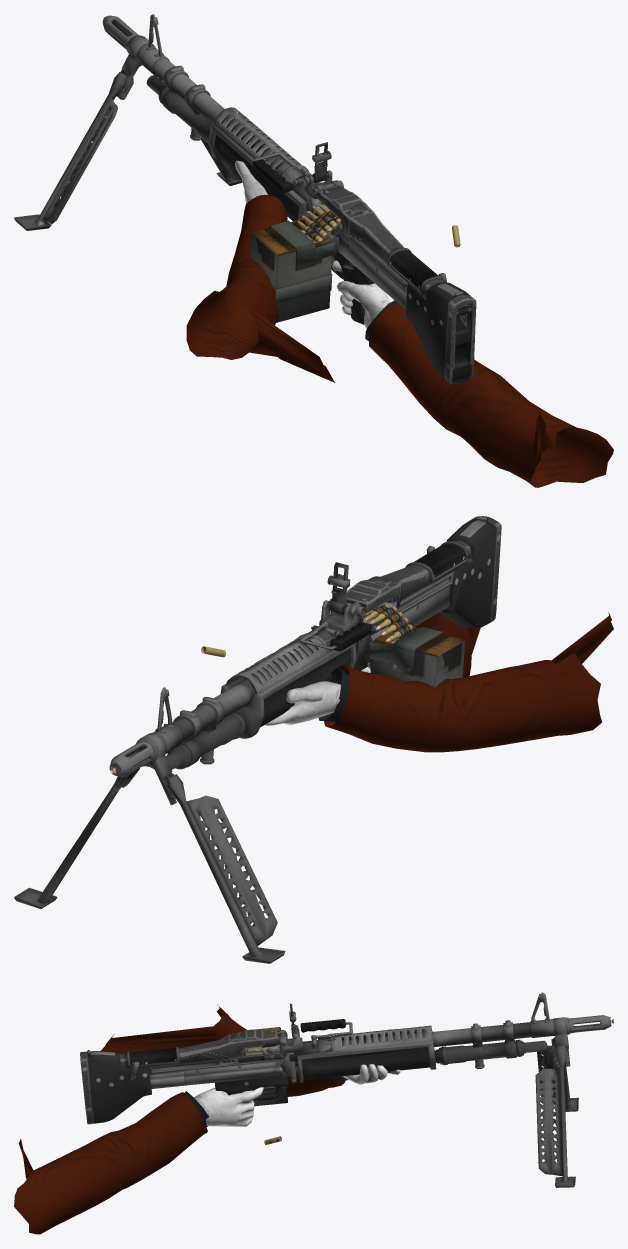
File: frame_15.obj
3 views of the same model, one above another, from view 1: azimuth 30°, elevation 25°; view 2: azimuth 150°, elevation 25°; view 3: azimuth 270°, elevation 25° (orthographic). The views are drawn at different scales.
Visible parts, largest first — view 1: Mesh.005, PlayerModelMerged.001_PlayerModelMerged, Mesh.001; view 2: Mesh.005, PlayerModelMerged.001_PlayerModelMerged, Mesh.001; view 3: Mesh.005, PlayerModelMerged.001_PlayerModelMerged.
Boxes of the visible parts, x1,y1,x2,y2 form: Mesh.005: (14, 14, 476, 383); PlayerModelMerged.001_PlayerModelMerged: (186, 160, 613, 487); Mesh.001: (297, 204, 340, 242); Mesh.005: (14, 516, 501, 963); PlayerModelMerged.001_PlayerModelMerged: (265, 612, 613, 752); Mesh.001: (366, 604, 412, 641); Mesh.005: (80, 992, 611, 1187); PlayerModelMerged.001_PlayerModelMerged: (14, 1004, 400, 1234).
Size of the model in its own units: 0.9933 by 0.7977 by 2.14.
